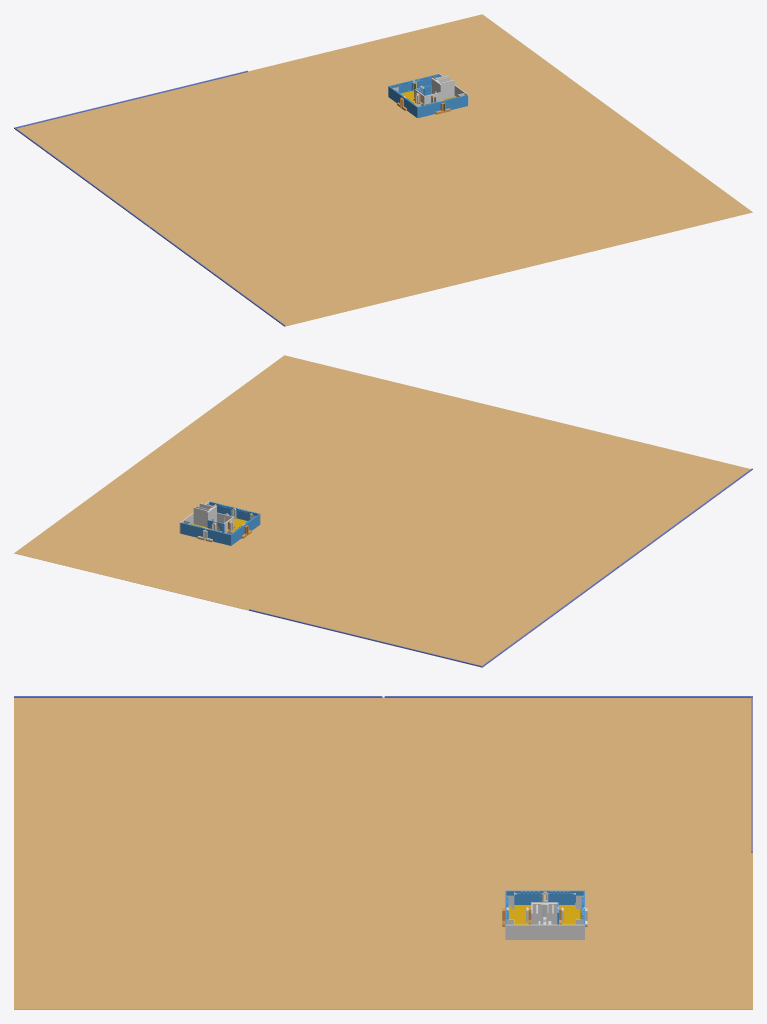
Rendered from beix.glb.
3 views of the same model, one above another, from view 1: azimuth 30°, elevation 25°; view 2: azimuth 150°, elevation 25°; view 3: azimuth 270°, elevation 25° (orthographic). The views are drawn at different scales.
Parts seen in each view (by area): view 1: har, Cube; view 2: har, Cube; view 3: har, Cube.005, Cube, eastWall, eastWallONorth, floorEzrasNasheem.
Boxes of the visible parts, x1,y1,x2,y2 form: har: [15, 14, 752, 326]; Cube: [388, 74, 467, 118]; har: [14, 355, 751, 667]; Cube: [180, 501, 260, 545]; har: [14, 697, 752, 1009]; Cube.005: [505, 924, 584, 939]; Cube: [505, 890, 584, 924]; eastWall: [384, 696, 752, 697]; eastWallONorth: [14, 696, 382, 697]; floorEzrasNasheem: [509, 905, 580, 924].
Bounding box in the file's own units: 3000 × 114 × 3000.
